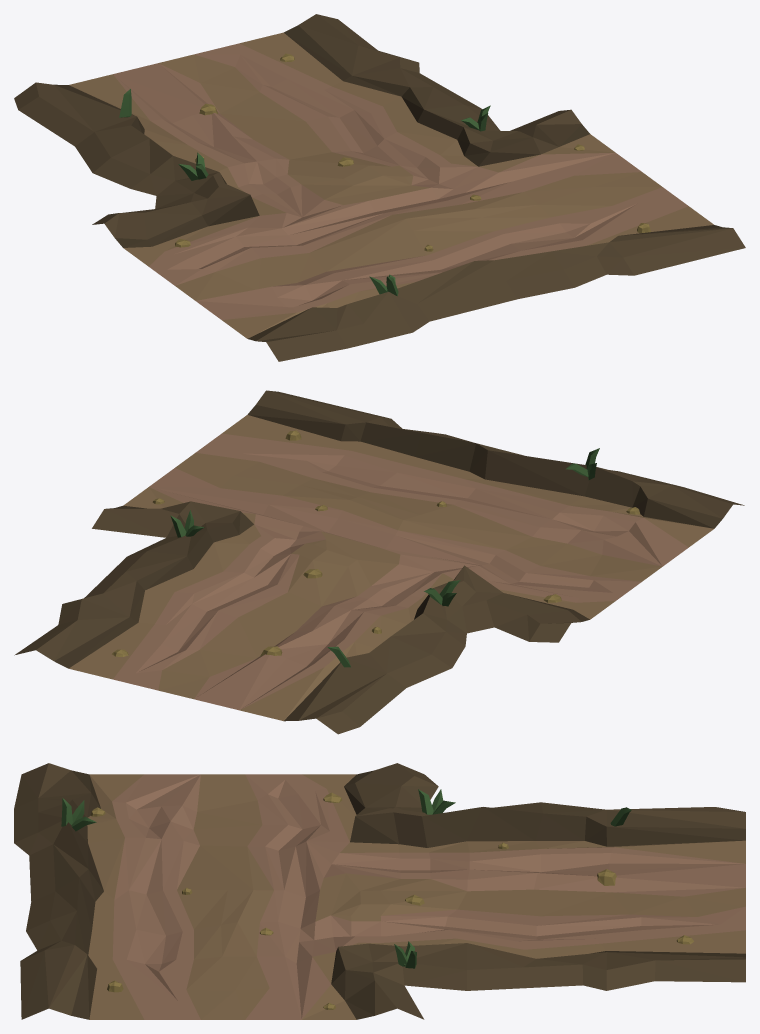
File: SM_Env_Road_T_01.fbx
3 renders of one model, top to bottom at view 1: azimuth 30°, elevation 25°; view 2: azimuth 150°, elevation 25°; view 3: azimuth 270°, elevation 25°, orthographic. The views are drawn at different scales.
Parts seen in each view (by area): view 1: SM_Env_Road_T_01; view 2: SM_Env_Road_T_01; view 3: SM_Env_Road_T_01.
Part boxes in pixels (box(x1,y1,x2,y2)): SM_Env_Road_T_01: box(14, 14, 745, 361); SM_Env_Road_T_01: box(14, 390, 744, 734); SM_Env_Road_T_01: box(14, 763, 745, 1019).
Size of the model in its own units: 0.05 by 0.00487 by 0.063.
Materials: 1 (1 with a texture image).
